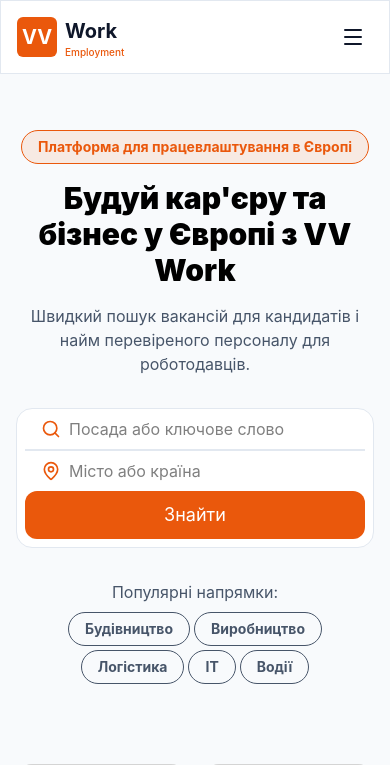
application routing › opens and closes the mobile navigation
Step 1. Click the button named "Відкрити меню" → (353, 37), box [333,17,373,57]
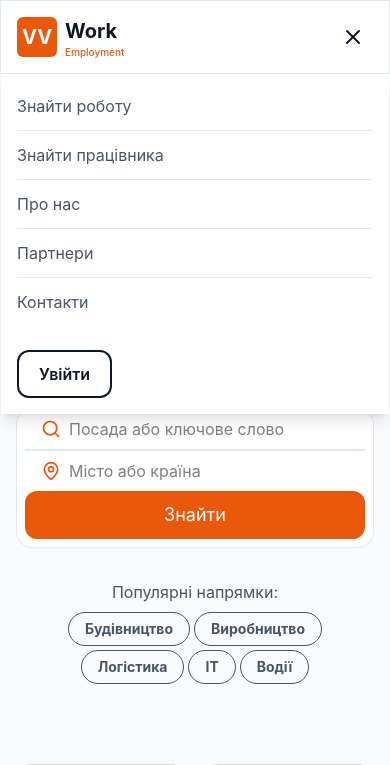
Expected: the button named "Закрити меню" is expanded, [333,17,373,57]
Expected: the text "Знайти працівника" is shown
Step 2. Click the text "Знайти працівника" → (195, 156), box [17,131,373,180]
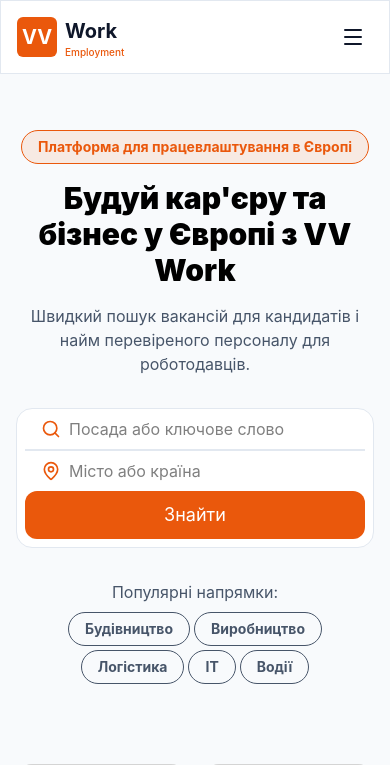
Expected: the button named "Відкрити меню" is shown, [333,17,373,57]
